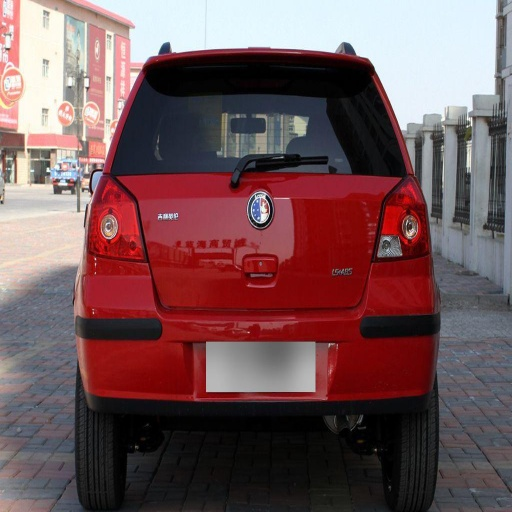back_bumper: (76, 257, 434, 413)
tailgate: (111, 169, 172, 304)
trunk: (130, 176, 423, 338)
